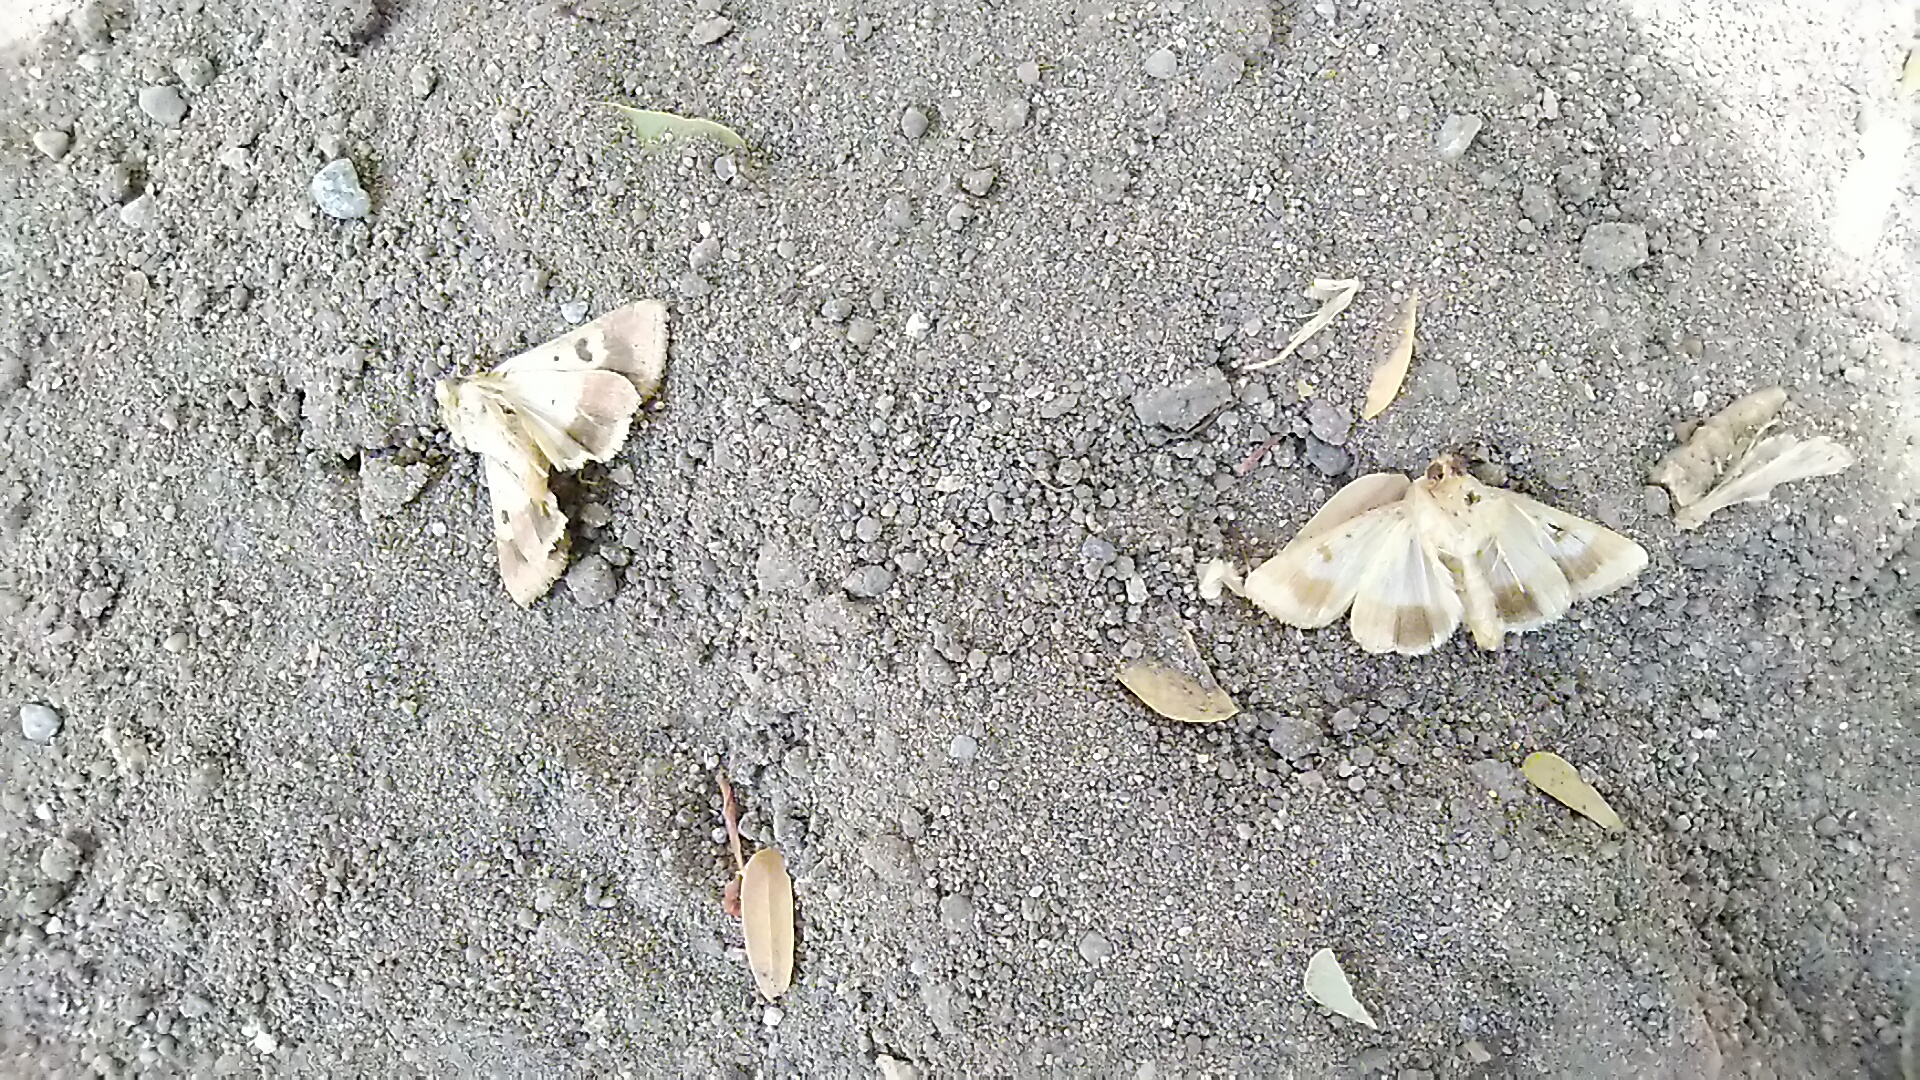INS-C: (1215, 429, 1654, 684), (425, 287, 691, 626)
